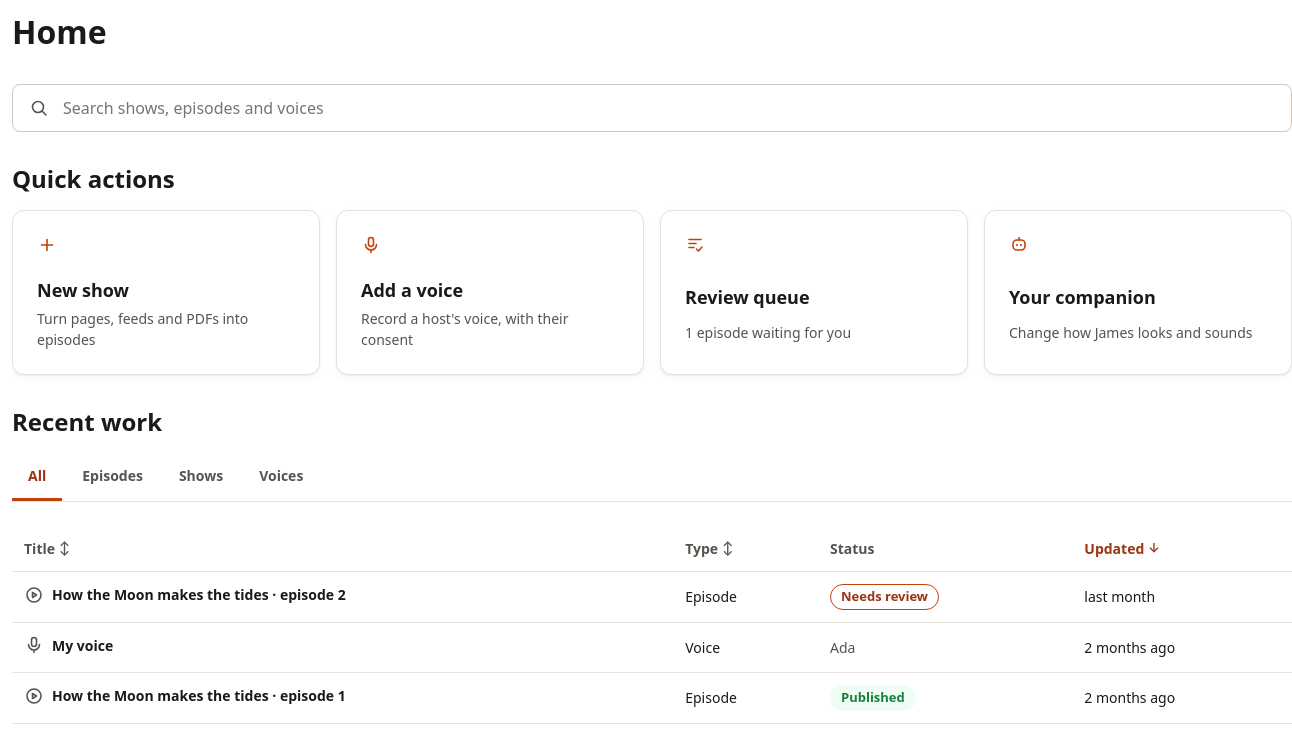
Scenario: HomePage › filters by search and tab, and sorts by a column
Type "voice" into the search field at (668, 108), box [61,95,1275,121]
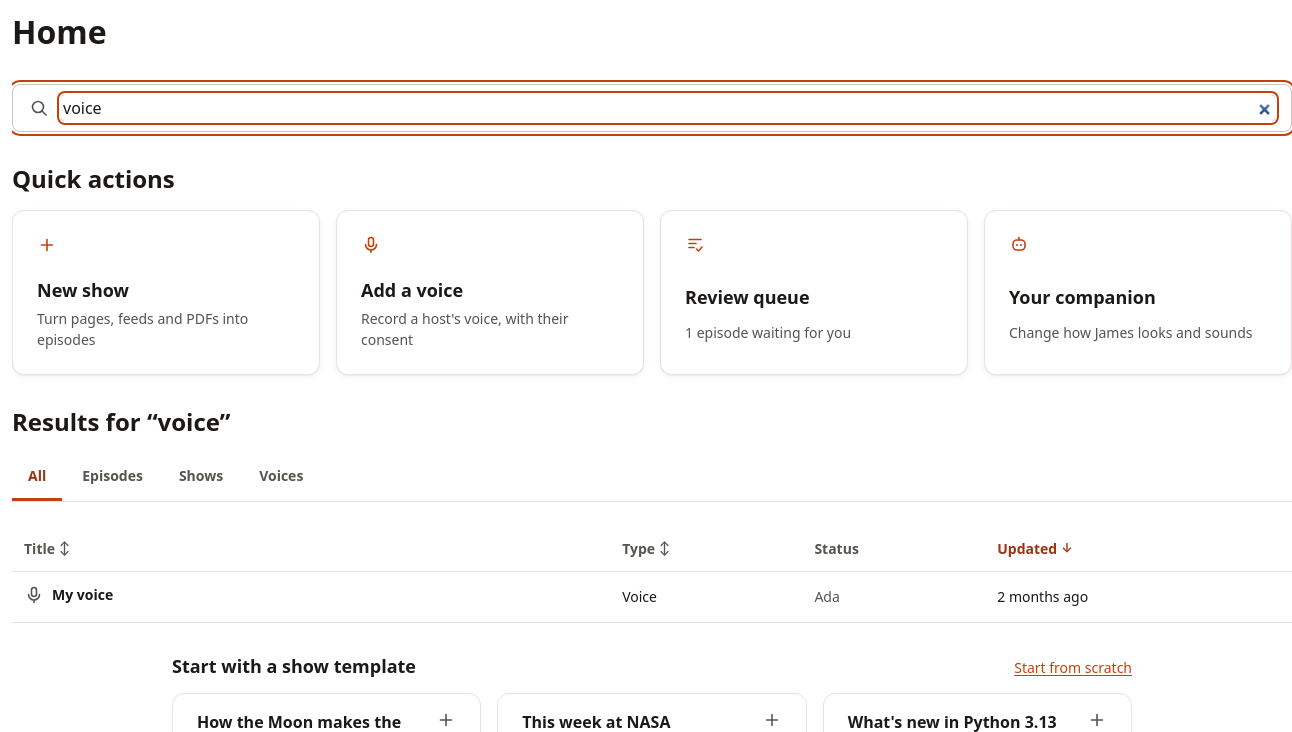
Expected: the heading "Results for “voice”" is shown, [12,405,230,438]
Clear the search field at (668, 108), box [61,95,1275,121]
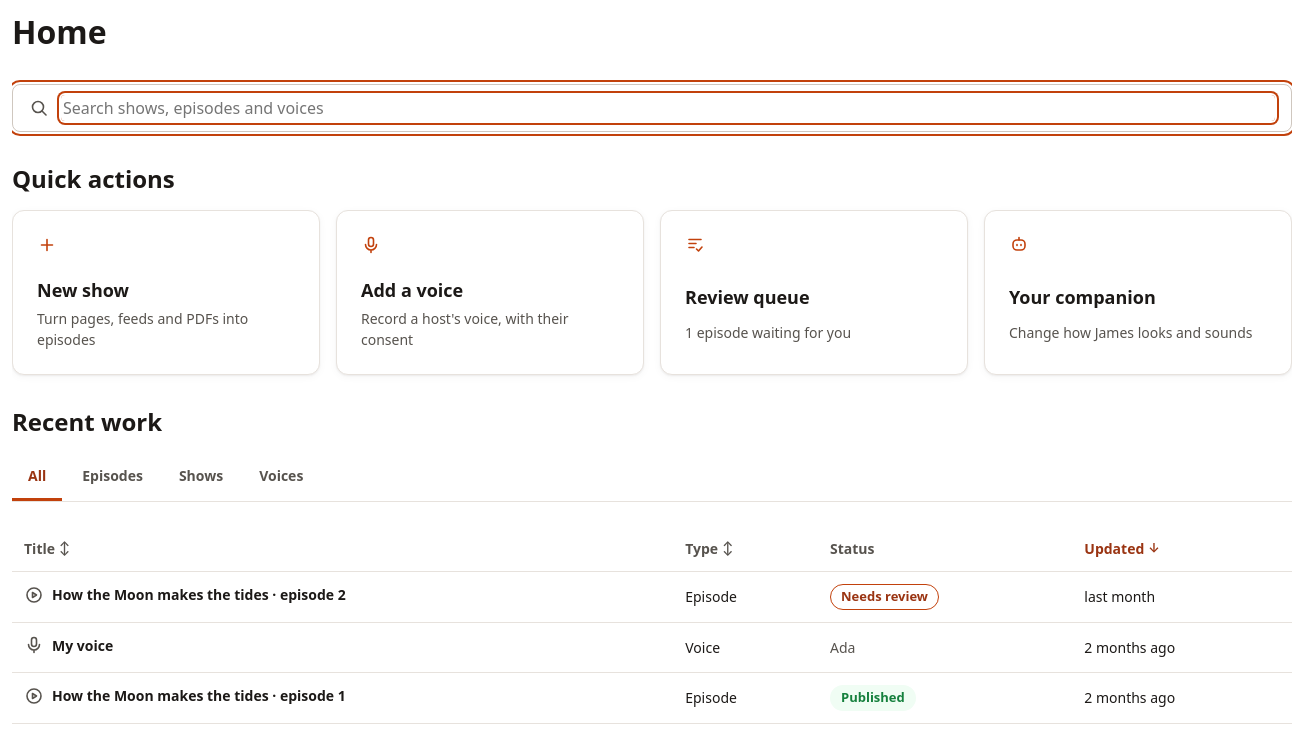
Click the tab "Shows" at (201, 477), box [163,453,239,501]
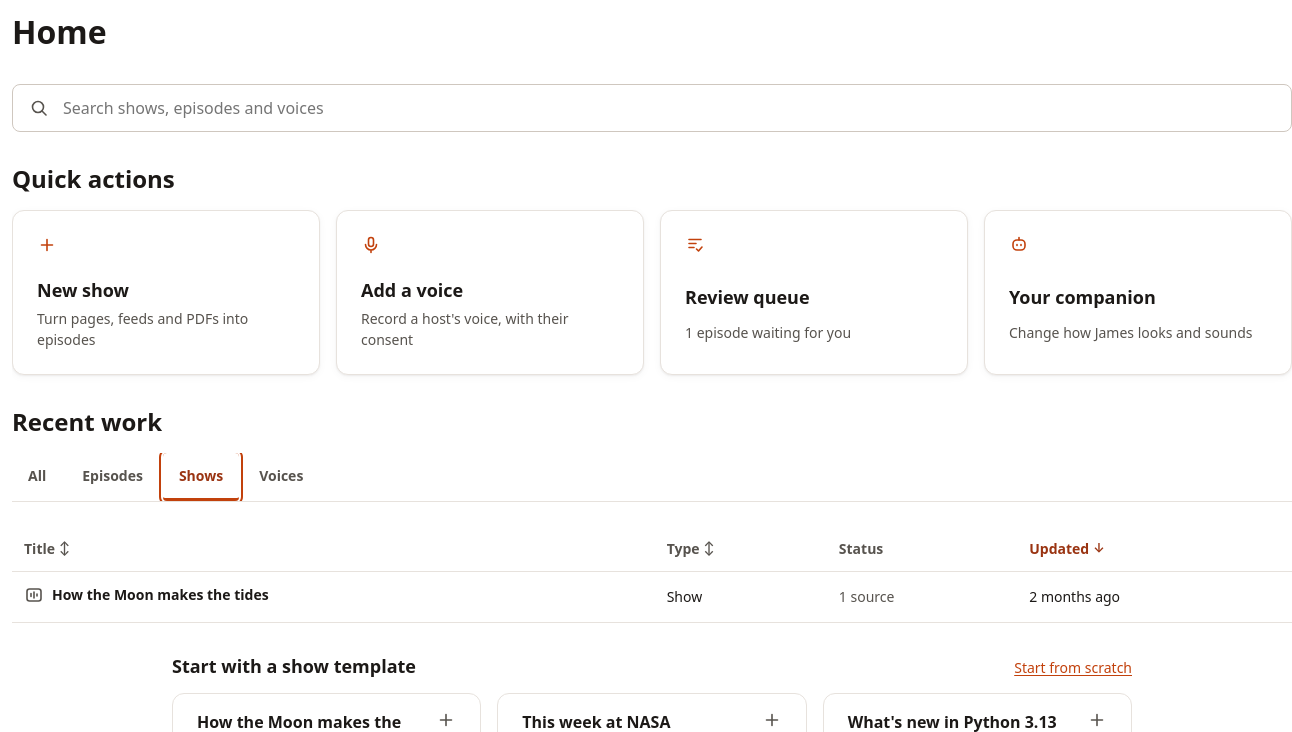
Click the tab "All" at (37, 477), box [12,453,62,501]
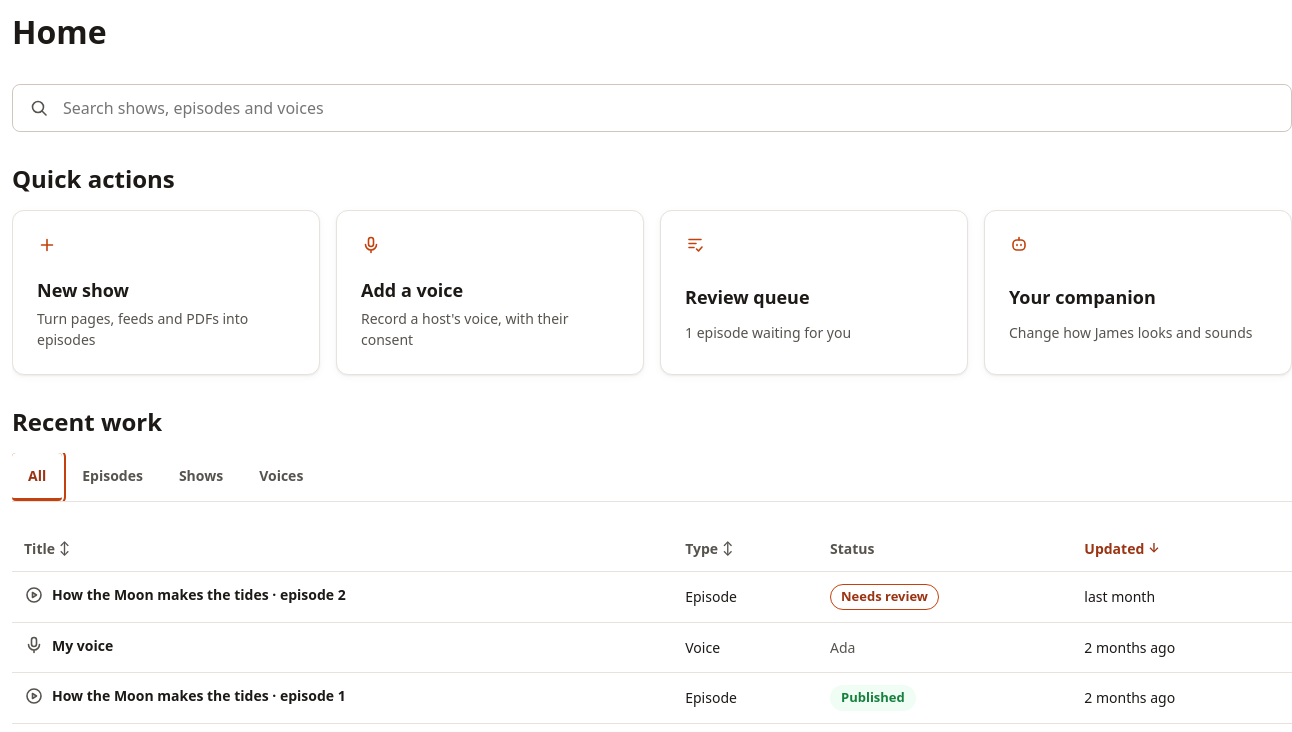
Click the button "Title ↕" at (47, 548), box [24,538,70,559]
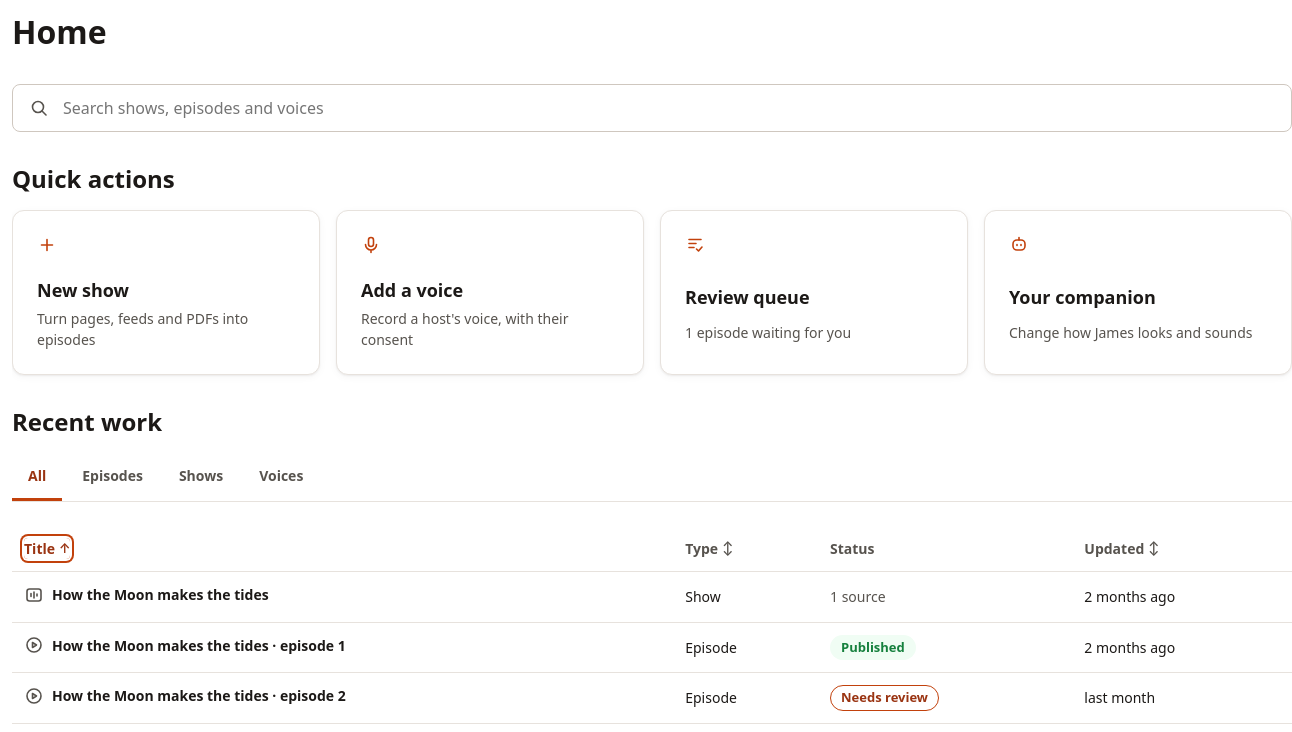
Expected: the column heading "Title ↑" has attribute aria-sort="ascending", [12,526,673,572]
